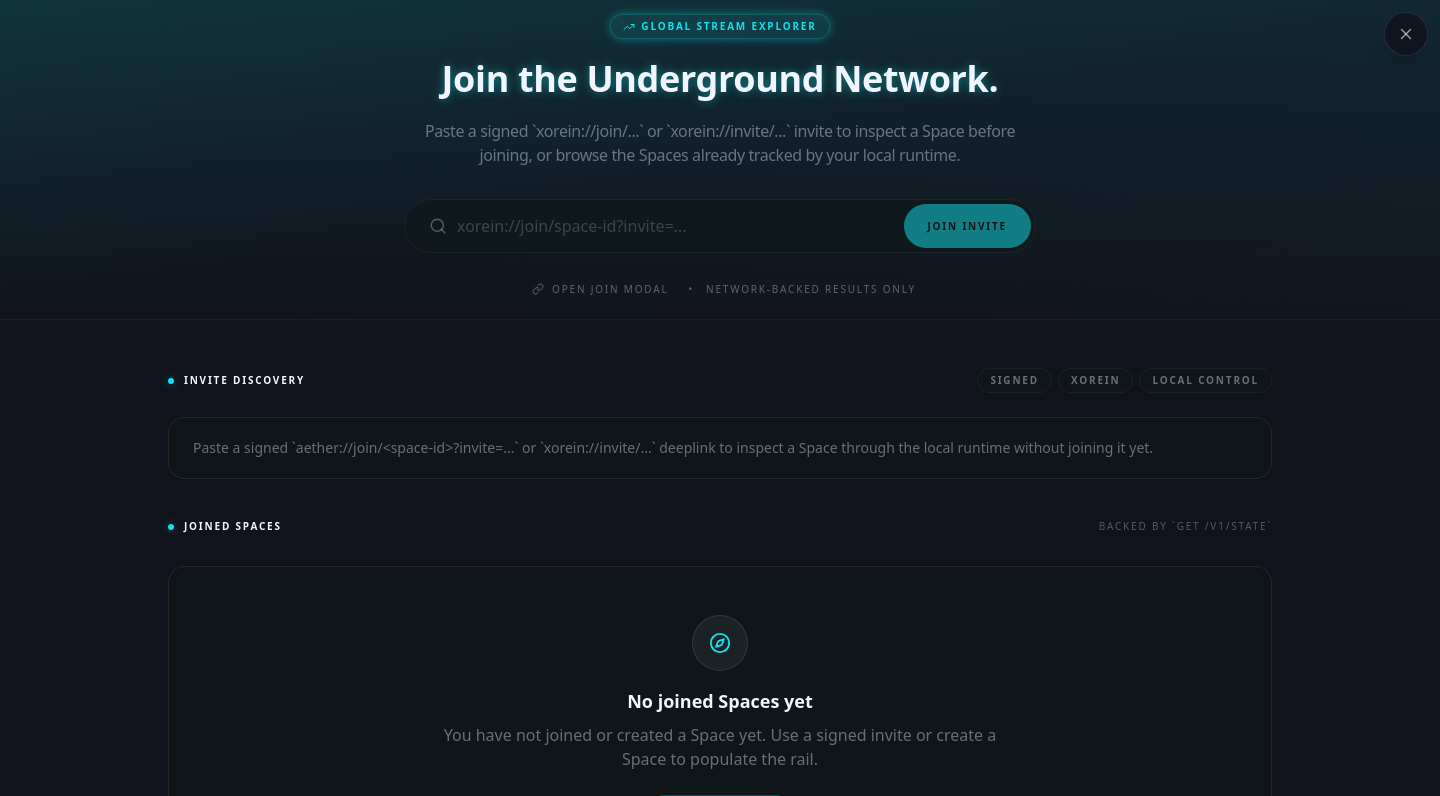
Test: ServerExplorer › dedupes malformed invite safety labels before rendering discovery cards
In the field with placeholder "xorein://join/space-id?invite=...": (678, 226) [457,204,900,248], type "xorein://invite/alpha"
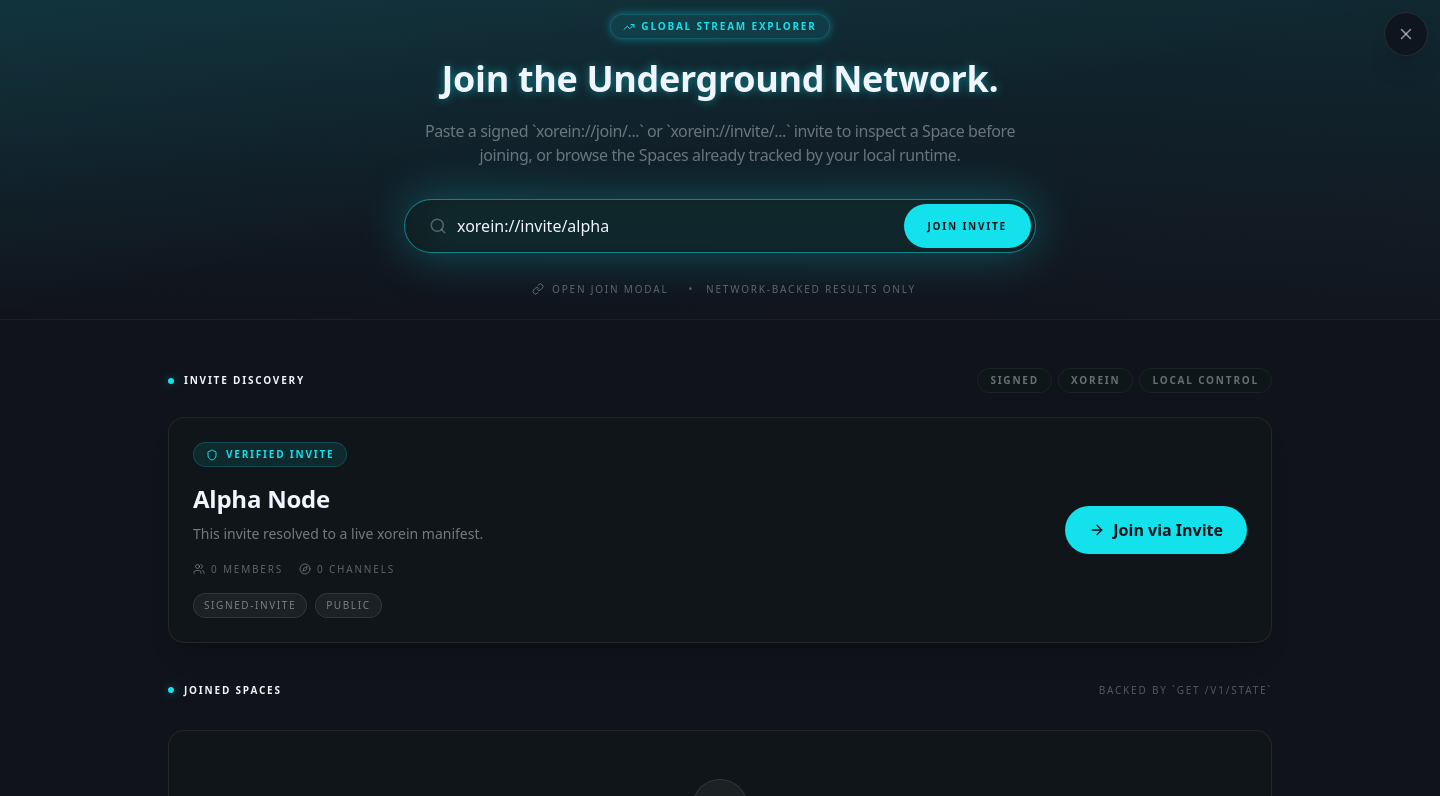
Result: the heading "Alpha Node" is shown at [193,482,330,515]
Result: the text "signed-invite" is shown once at [193,593,307,618]
Result: the text "public" is shown at [315,593,382,618]
